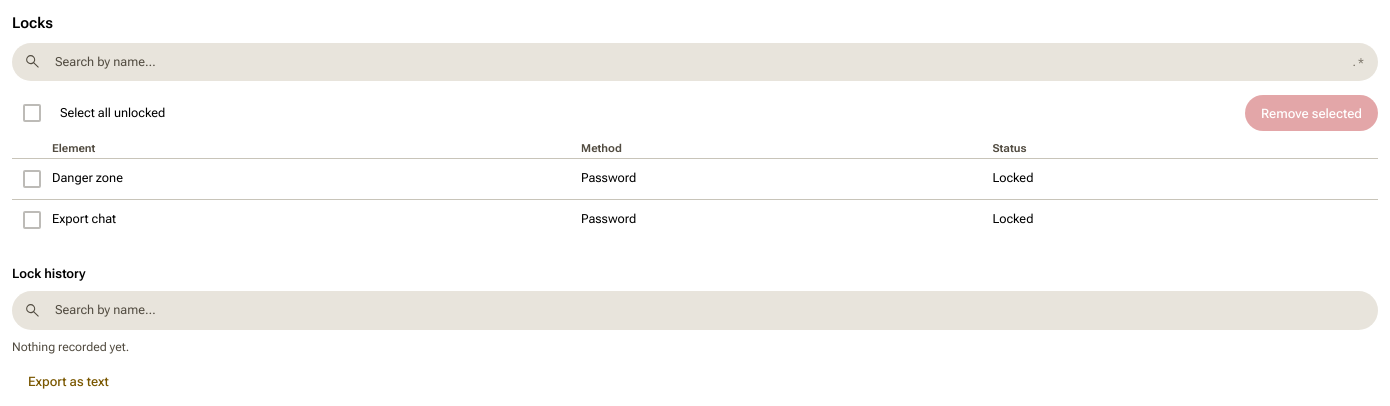
LockManager › lists every lock and lets search narrow the list
Expected: the text "Danger zone" is shown, [52, 170, 123, 185]
Expected: the text "Export chat" is shown, [52, 211, 116, 226]
Type "danger" into the field named "Search locks" at (692, 62), box [47, 44, 1337, 79]
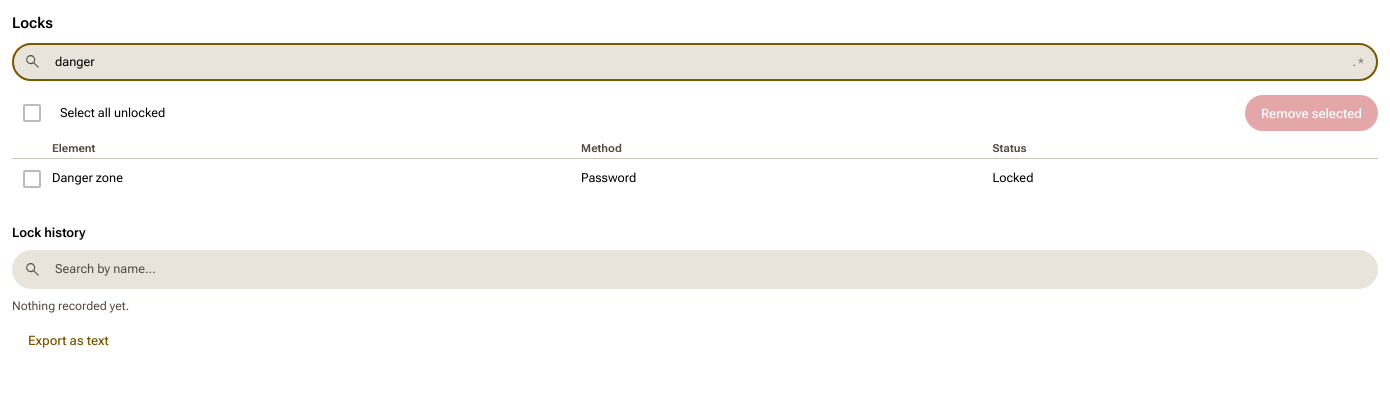
Expected: the text "Danger zone" is shown, [52, 170, 123, 185]
Now the text "Export chat" is gone
